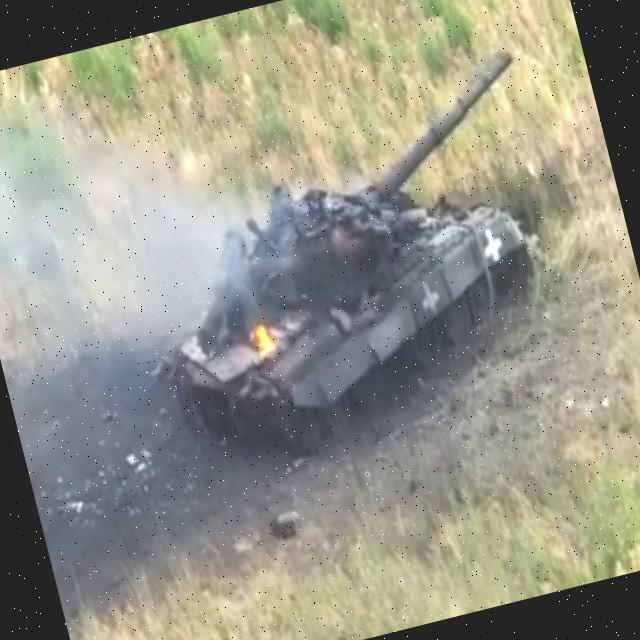MBT: (93, 47, 601, 513)
